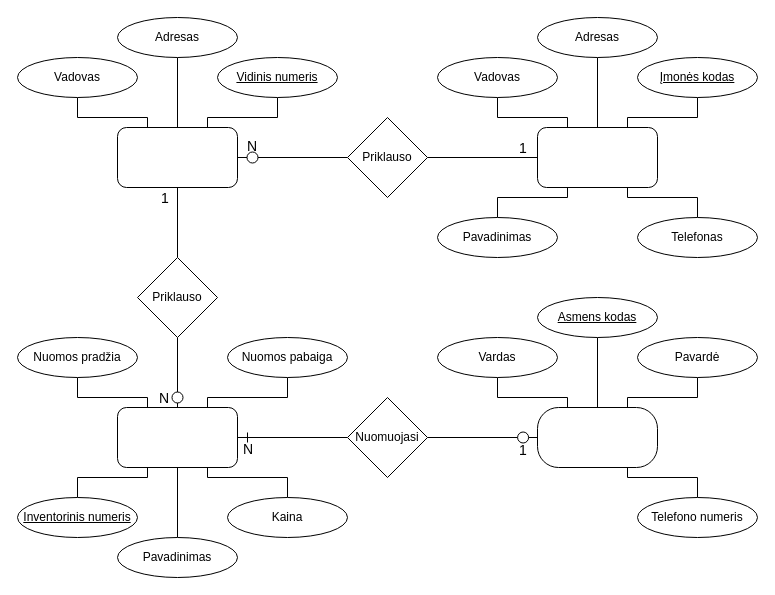
This 775x595 diagram has some shape labels left out. The shapes that lost their labels are listed below. From the top down, each one's centre as x and y in pixels, then its label:
At pixel 177 157: "Nuomos punktas".
At pixel 597 157: "Įmonė".
At pixel 177 437: "Kasetė".
At pixel 597 437: "Nuomininkas".
